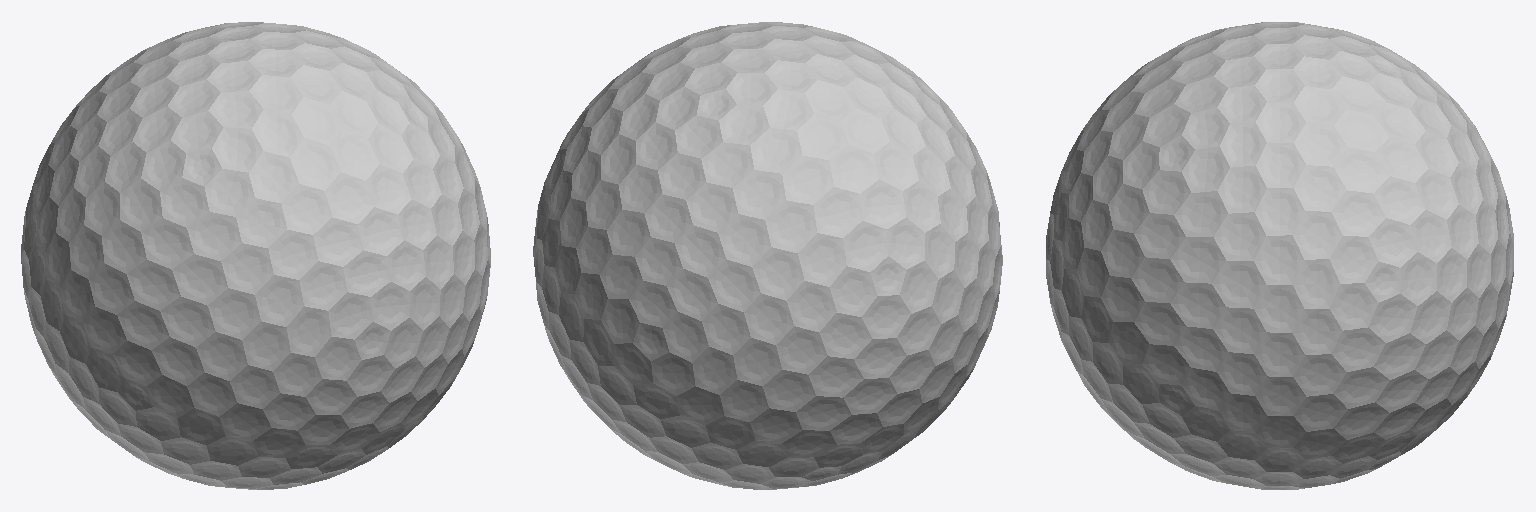
The model's file is ball2.obj.
3 views of the same model, side by side, from view 1: azimuth 30°, elevation 25°; view 2: azimuth 150°, elevation 25°; view 3: azimuth 270°, elevation 25° (orthographic).
Visible parts, largest first — view 1: GeoSphere001; view 2: GeoSphere001; view 3: GeoSphere001.
Part boxes in pixels (x1,y1,x2,y2): GeoSphere001: (21, 22, 490, 489); GeoSphere001: (533, 22, 1002, 489); GeoSphere001: (1046, 22, 1513, 489).
Size of the model in its own units: 1.66 by 1.66 by 1.66.